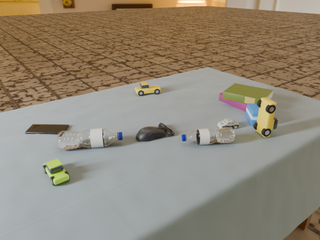book: (223, 83, 273, 104)
bottle: (57, 128, 122, 150), (182, 127, 235, 145)
box: (246, 103, 259, 125)
mouse: (136, 123, 175, 141)
phone: (25, 124, 69, 134)
toy_car: (253, 97, 279, 137), (43, 159, 70, 186), (135, 82, 160, 96), (217, 119, 239, 128)
